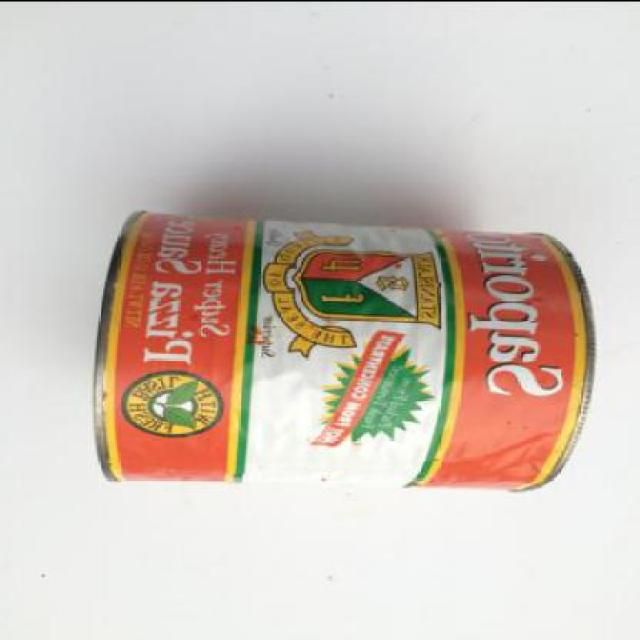METAL: (97, 209, 597, 494)
